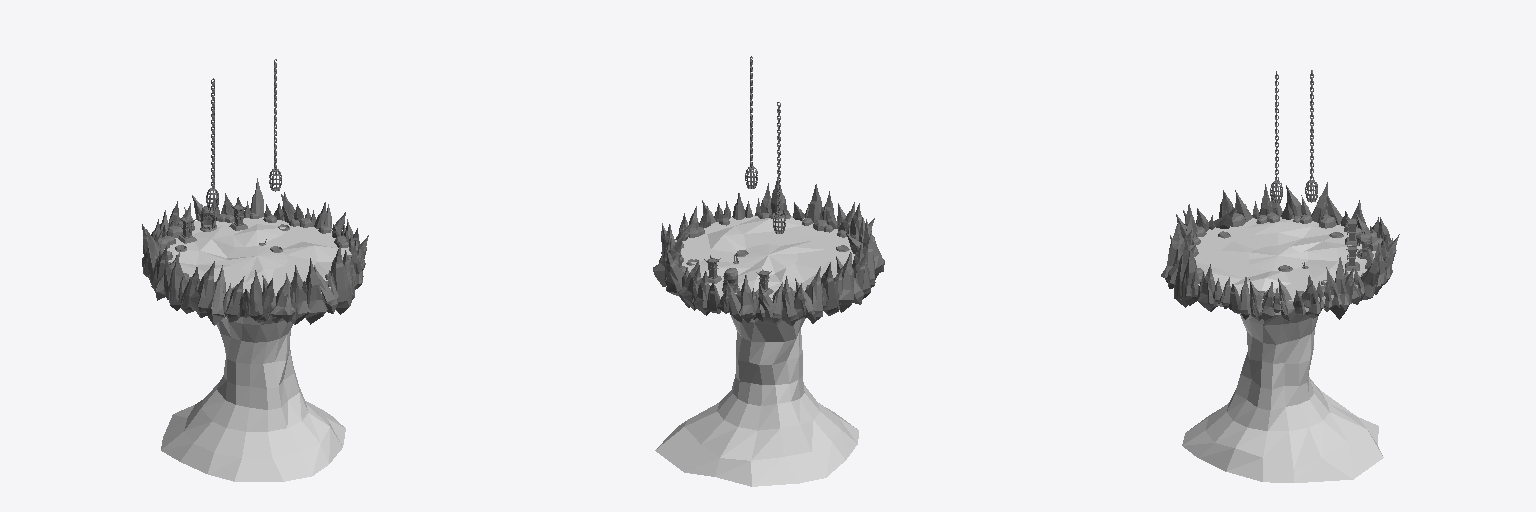
The model's file is arena.obj.
3 views of the same model, side by side, from view 1: azimuth 30°, elevation 25°; view 2: azimuth 150°, elevation 25°; view 3: azimuth 270°, elevation 25° (orthographic).
Visible parts, largest first — view 1: group5 pCylinder1, group7 pasted__pCylinder28, group7 pasted__pCylinder32, group7 pasted__pCylinder44, group7 pasted__pCylinder34, group7 pasted__pCylinder43; view 2: group5 pCylinder1, group7 pasted__pCylinder51, group7 pasted__pCylinder53; view 3: group5 pCylinder1.
Part boxes in pixels (x1,y1,x2,y2): group5 pCylinder1: (161, 217, 351, 481); group7 pasted__pCylinder28: (330, 246, 351, 314); group7 pasted__pCylinder32: (305, 258, 327, 324); group7 pasted__pCylinder44: (190, 261, 214, 317); group7 pasted__pCylinder34: (290, 265, 310, 324); group7 pasted__pCylinder43: (206, 265, 225, 325); group5 pCylinder1: (655, 215, 858, 486); group7 pasted__pCylinder51: (838, 252, 853, 312); group7 pasted__pCylinder53: (821, 262, 839, 315); group5 pCylinder1: (1182, 217, 1383, 482).
Bounding box in the file's own units: 484 × 914 × 510.